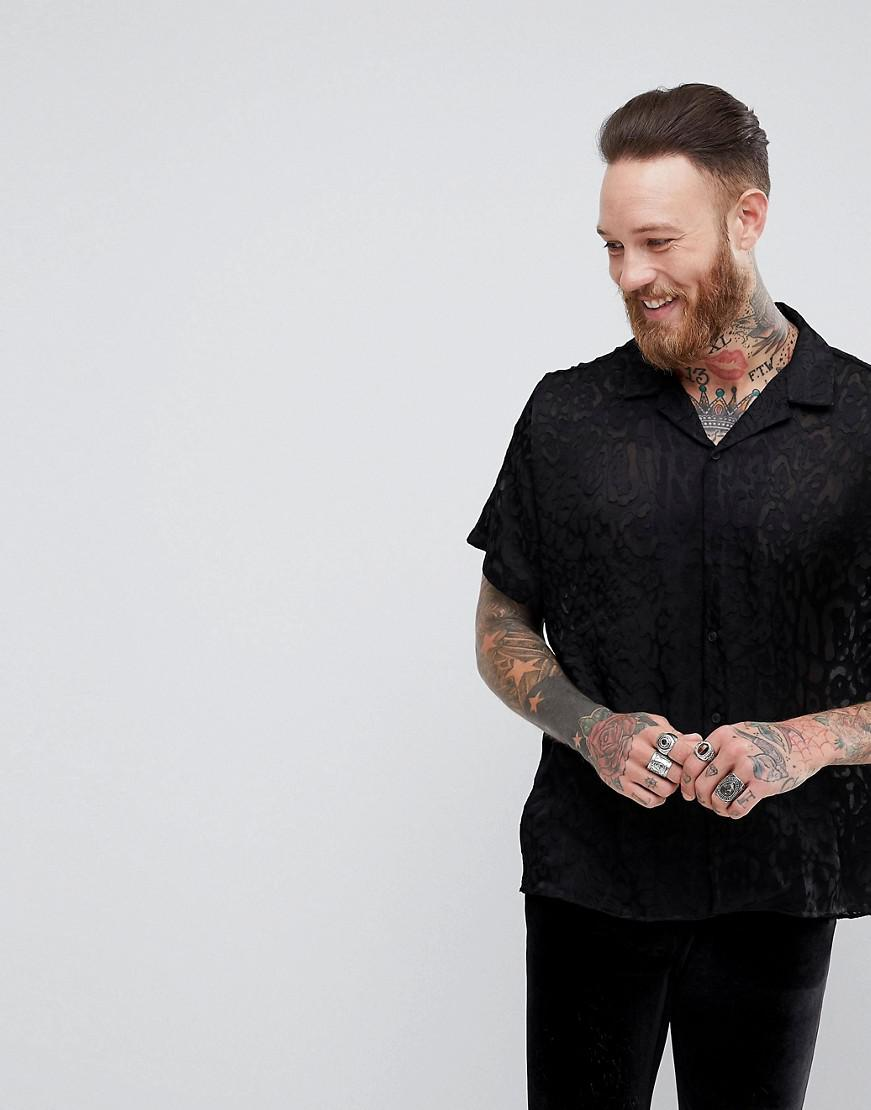teeshirt: (476, 329, 871, 957)
